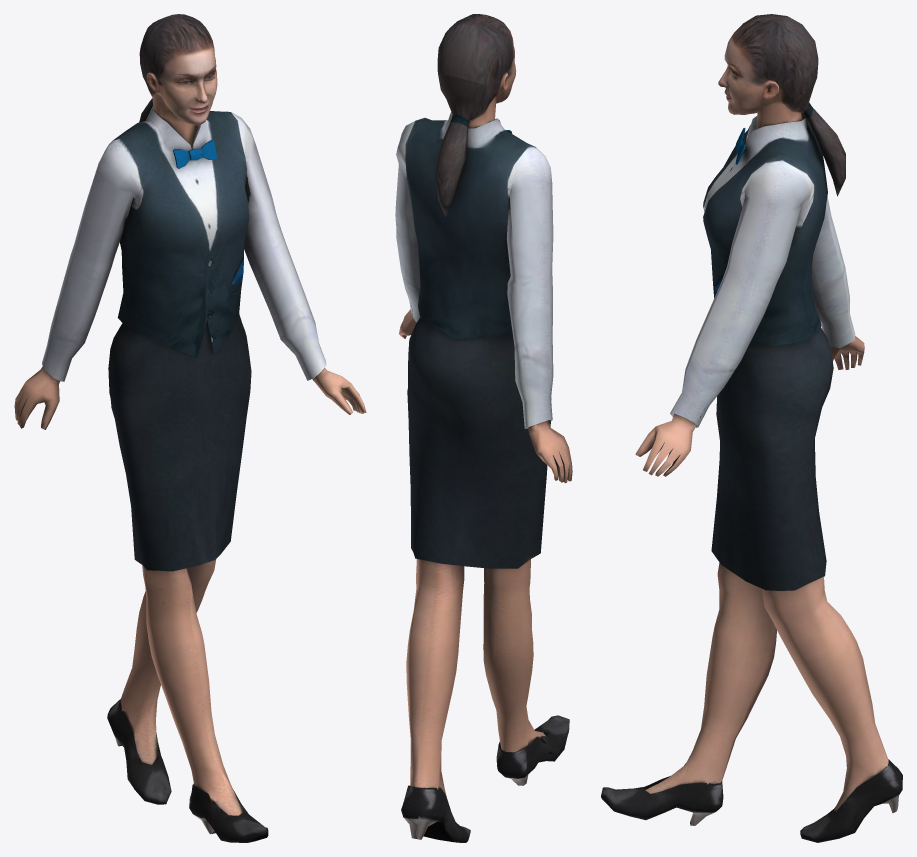
The model's file is SWT01_06_03.fbx.
3 renders of one model, left to right at view 1: azimuth 30°, elevation 25°; view 2: azimuth 150°, elevation 25°; view 3: azimuth 270°, elevation 25°, orthographic. The views are drawn at different scales.
Parts seen in each view (by area): view 1: WAIT01_06_03; view 2: WAIT01_06_03; view 3: WAIT01_06_03.
Boxes of the visible parts, x1,y1,x2,y2 form: WAIT01_06_03: (14, 14, 366, 842); WAIT01_06_03: (395, 14, 572, 842); WAIT01_06_03: (601, 14, 902, 842).
Size of the model in its own units: 23.33 by 70.54 by 23.51.
